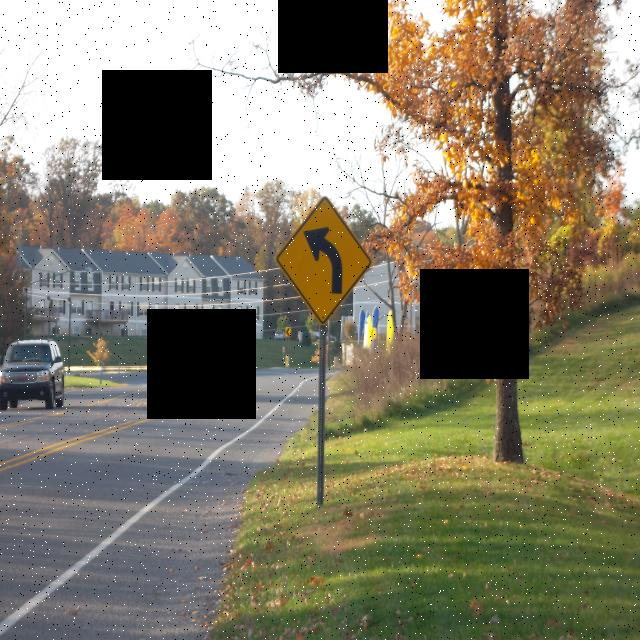warning: (276, 192, 374, 323)
